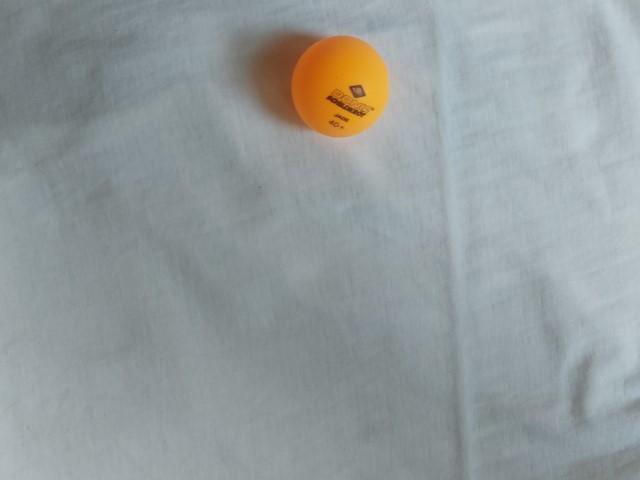oball: (282, 32, 399, 141)
